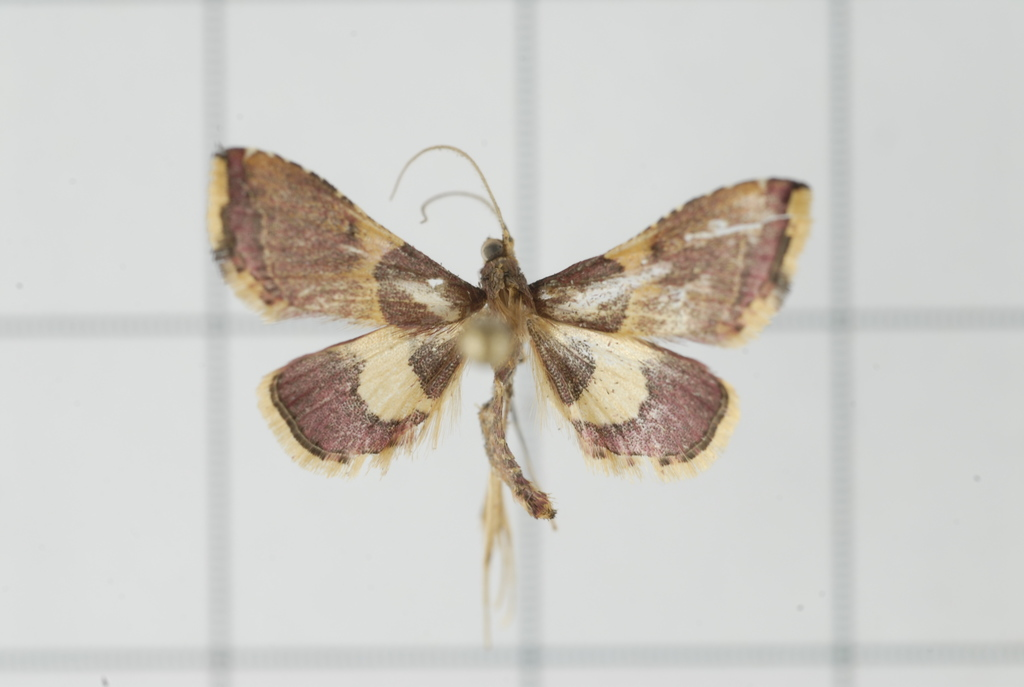Butterfly: (199, 125, 830, 554)
